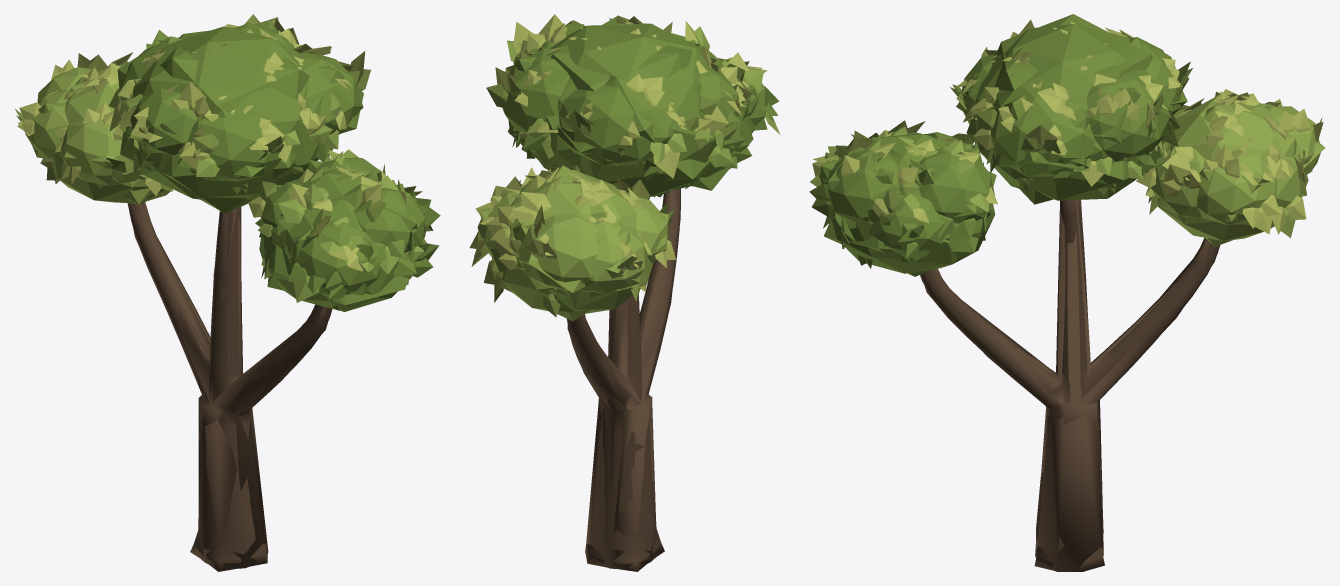
3 views of the same model, side by side, from view 1: azimuth 30°, elevation 25°; view 2: azimuth 150°, elevation 25°; view 3: azimuth 270°, elevation 25° (orthographic).
Parts seen in each view (by area): view 1: L0-crown, L0-trunk, L1-crown, L1-trunk; view 2: L0-crown, L1-trunk, L1-crown, L0-trunk; view 3: L0-crown, L1-trunk, L1-crown, L0-trunk.
Boxes of the visible parts, <box> form: L0-crown: <box>15,15,439,311</box>; L0-trunk: <box>127,202,332,571</box>; L1-crown: <box>17,14,440,305</box>; L1-trunk: <box>128,202,327,569</box>; L0-crown: <box>469,14,780,316</box>; L1-trunk: <box>567,190,680,569</box>; L1-crown: <box>472,15,778,321</box>; L0-trunk: <box>567,188,680,571</box>; L0-crown: <box>809,21,1322,273</box>; L1-trunk: <box>923,200,1219,571</box>; L1-crown: <box>820,14,1325,276</box>; L0-trunk: <box>920,199,1220,571</box>.
Bounding box in the file's own units: 2.34 × 4.81 × 4.3.
